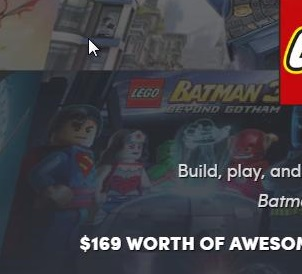cursor: (87, 37, 100, 58)
